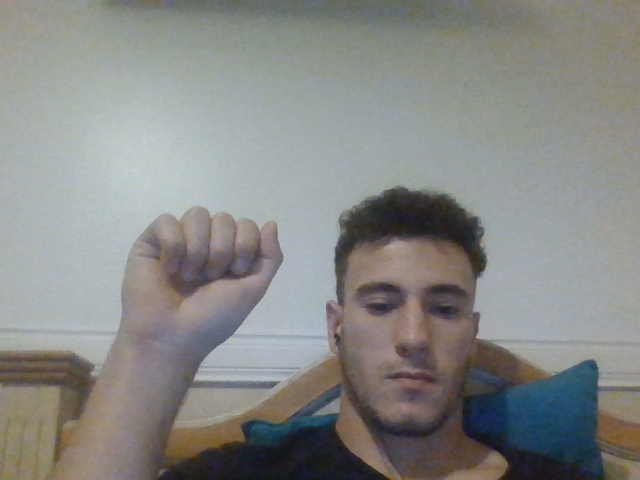Stop: (122, 205, 283, 346)
